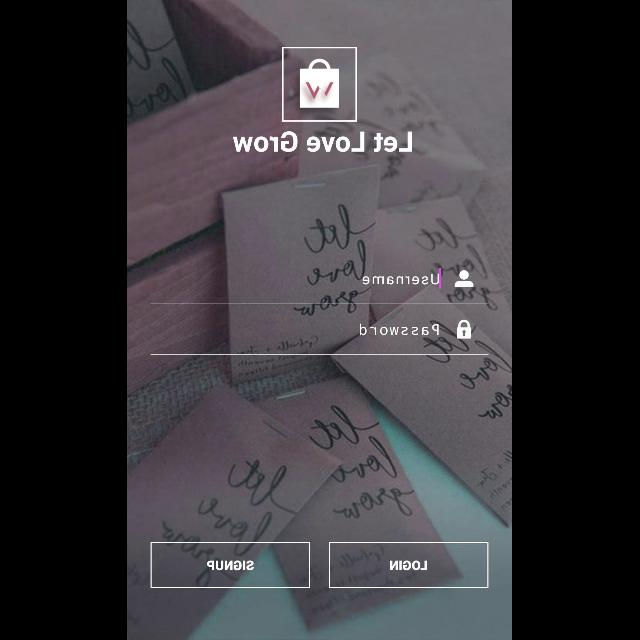backgroundimage: (128, 1, 512, 640)
icon: (456, 270, 474, 288), (458, 320, 472, 338)
image: (282, 48, 358, 122)
input: (151, 268, 489, 304), (151, 320, 489, 354)
text: (233, 132, 412, 152), (360, 324, 440, 336), (364, 274, 440, 284)
textbutton: (151, 542, 311, 588), (329, 542, 489, 588)
